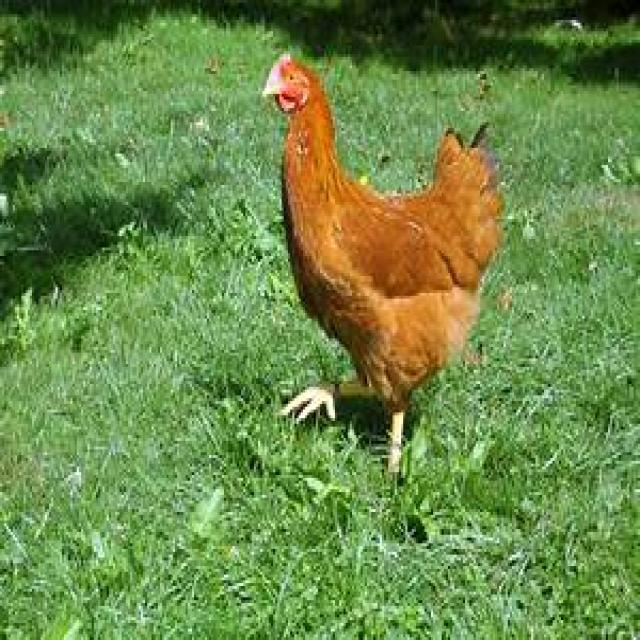hen: (264, 55, 502, 474)
